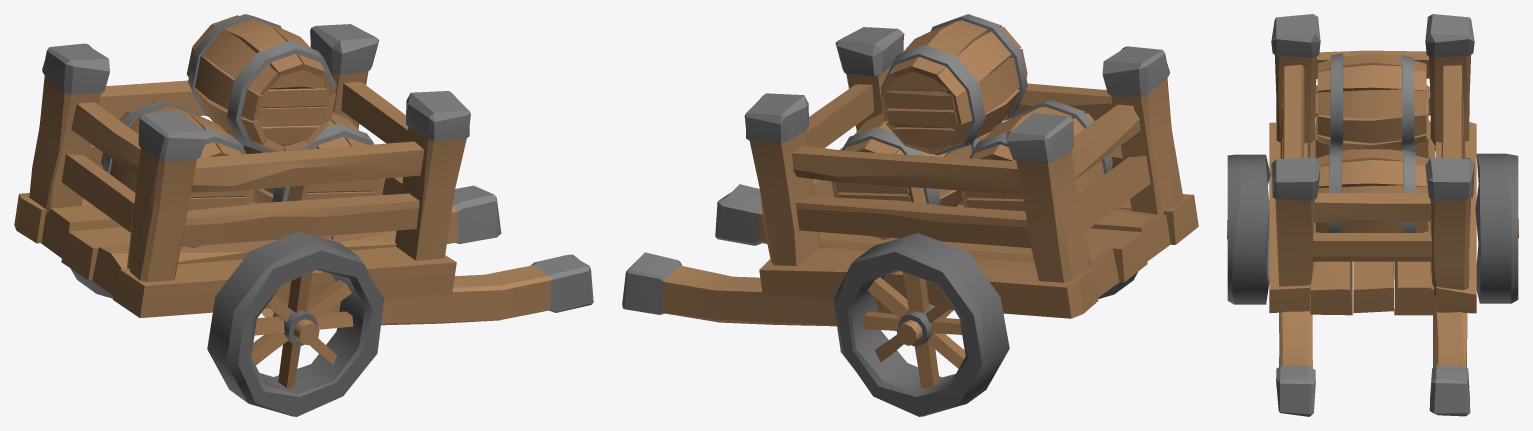
Rendered from Wagon_C.fbx.
3 renders of one model, left to right at view 1: azimuth 30°, elevation 25°; view 2: azimuth 150°, elevation 25°; view 3: azimuth 270°, elevation 25°, orthographic. The views are drawn at different scales.
Visible parts, largest first — view 1: Wagon_C; view 2: Wagon_C; view 3: Wagon_C.
Boxes of the visible parts, left/top/right/bottom form: Wagon_C: left=14, top=14, right=593, bottom=416; Wagon_C: left=622, top=14, right=1198, bottom=416; Wagon_C: left=1227, top=14, right=1518, bottom=416.
Size of the model in its own units: 252 by 161 by 167.
